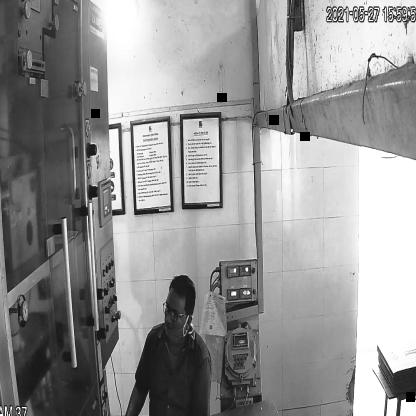goggles: (160, 301, 191, 323)
